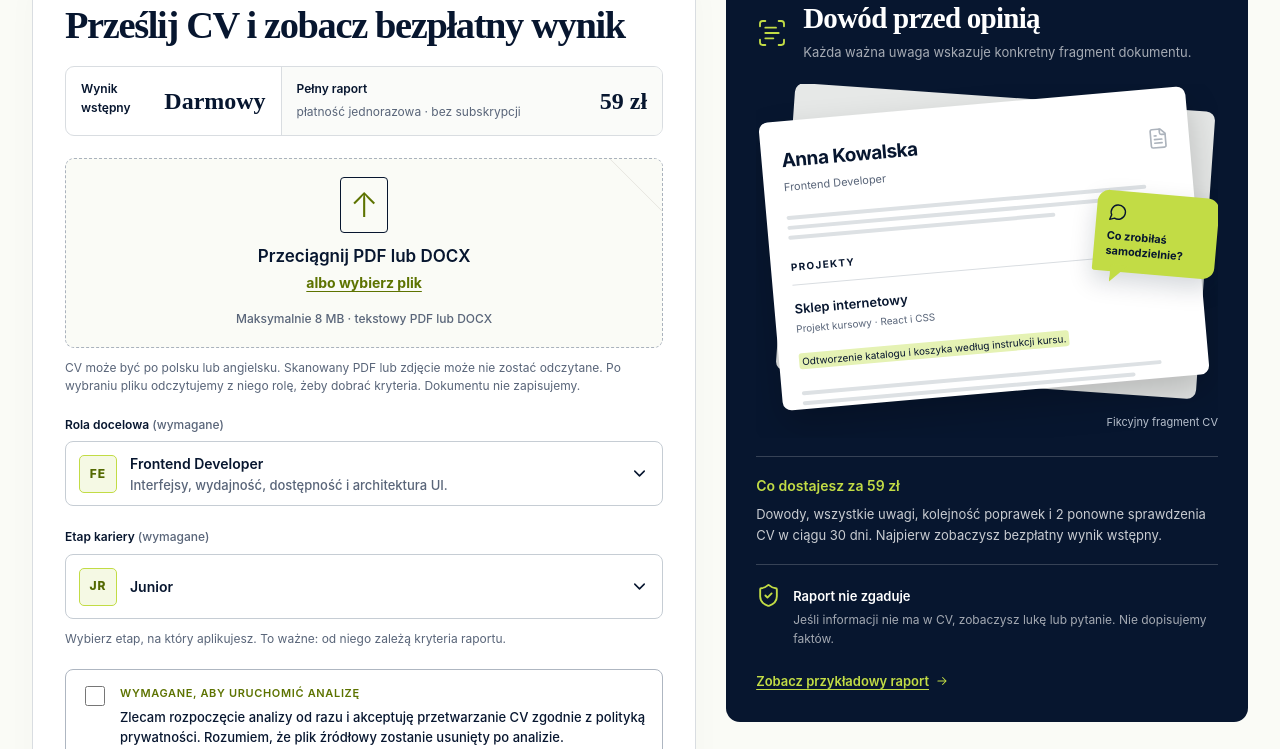
Test: mobile upload measurement › marks the Other role as experimental before the user uploads a CV
Expected: the text "Tryb eksperymentalny" is not shown
Click the dropdown named "Rola docelowa". click: coordinates (98, 474)
box: [65, 441, 663, 506]
(page scrolled)
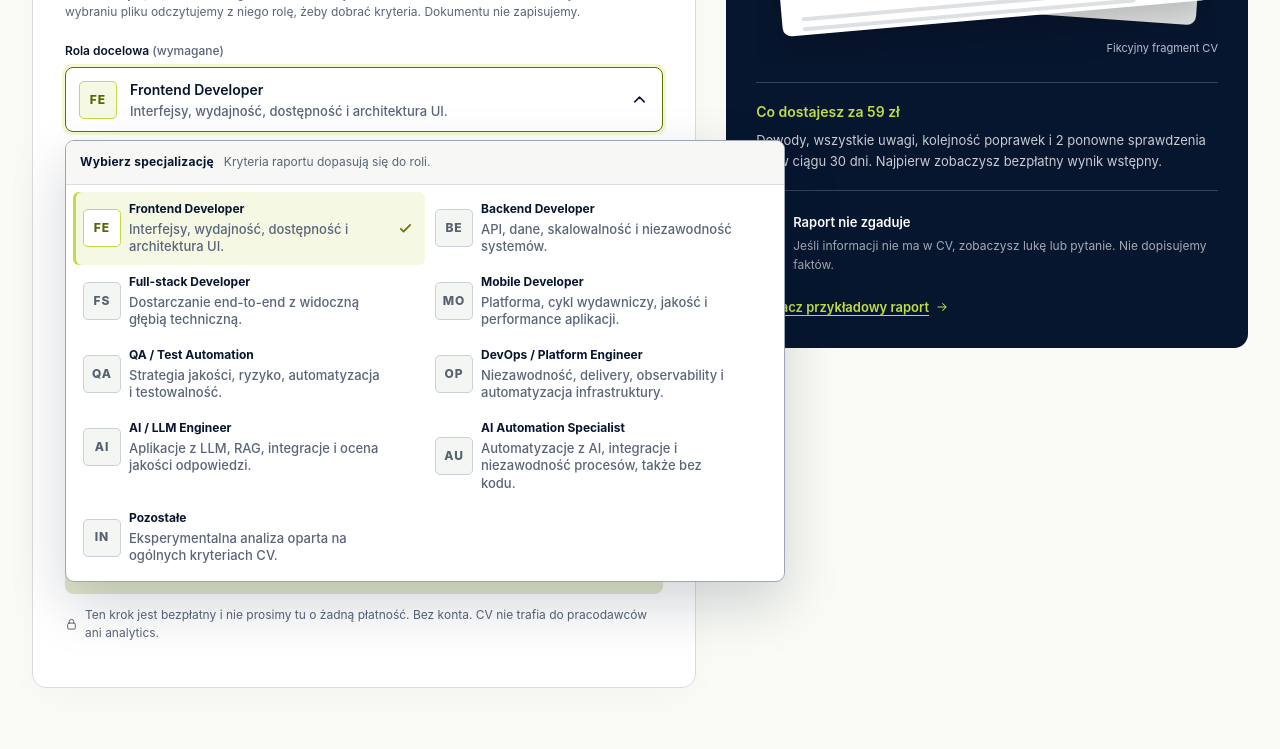
Click the option "Pozostałe". click: coordinates (249, 538)
box: [73, 501, 425, 574]
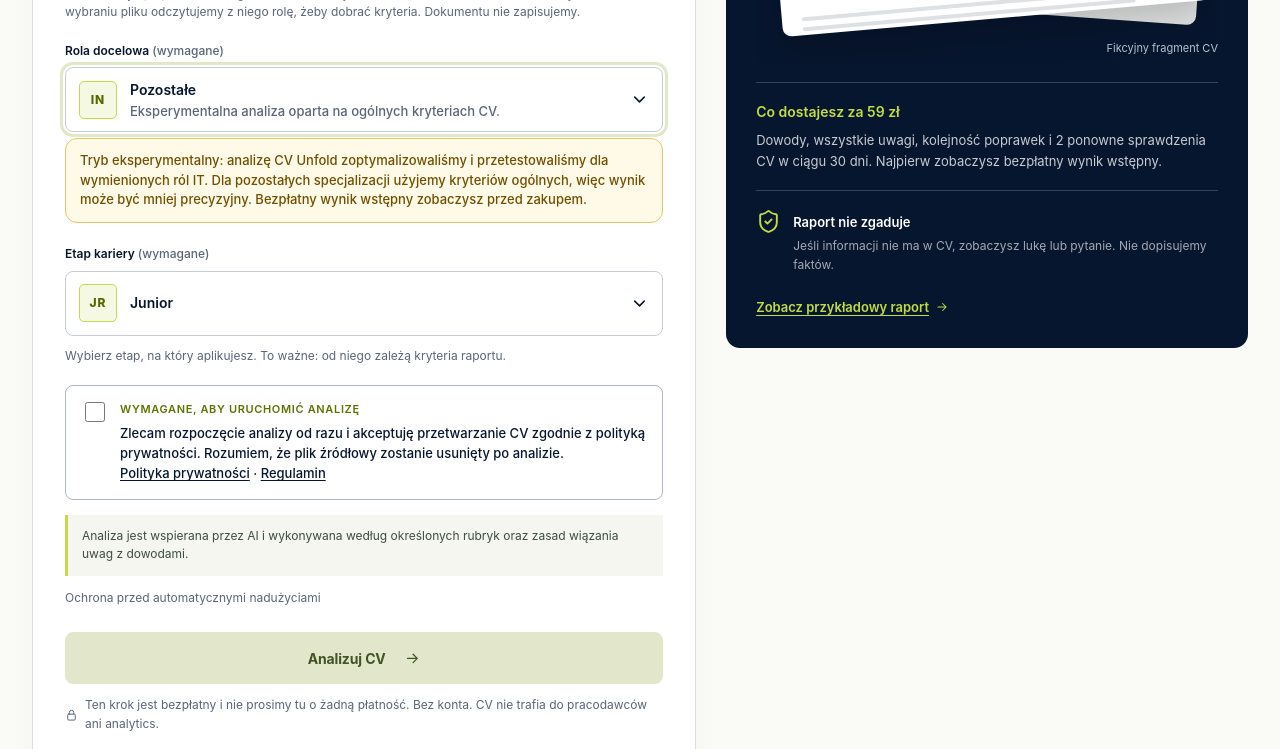
Result: the text "zoptymalizowaliśmy i przetestowaliśmy dla wymienionych ról IT" is shown at [80, 152, 645, 207]
Result: the text "wynik może być mniej precyzyjny" is shown at [80, 152, 645, 207]
Result: the text "przed zakupem" is shown at [80, 152, 645, 207]
